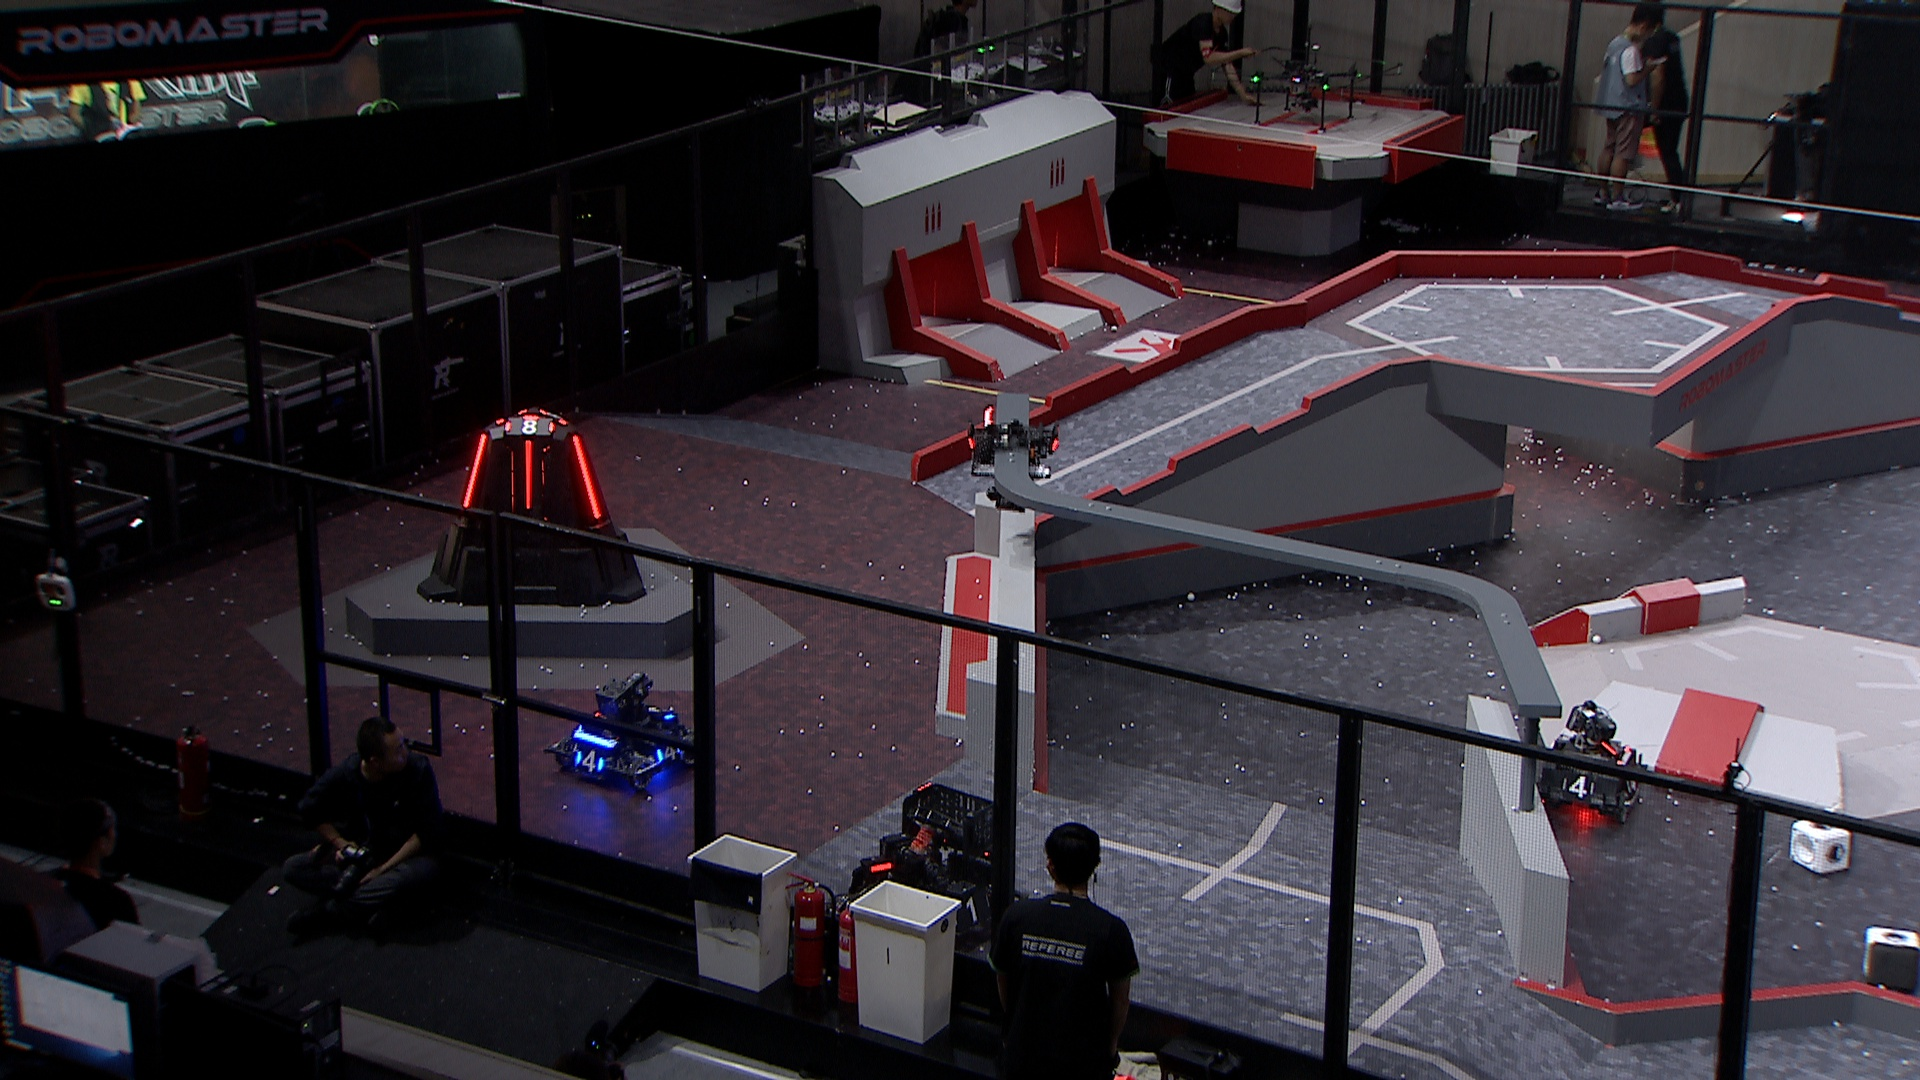armor: (571, 434, 603, 524), (462, 433, 491, 512), (953, 891, 993, 927), (502, 414, 556, 439), (575, 746, 609, 777), (522, 438, 535, 514), (1561, 775, 1596, 799), (645, 703, 676, 723), (655, 744, 683, 766)
base: (419, 409, 650, 609)
car: (833, 783, 1027, 963), (550, 673, 703, 793), (1532, 702, 1648, 825)
watcher: (967, 406, 1060, 514)
